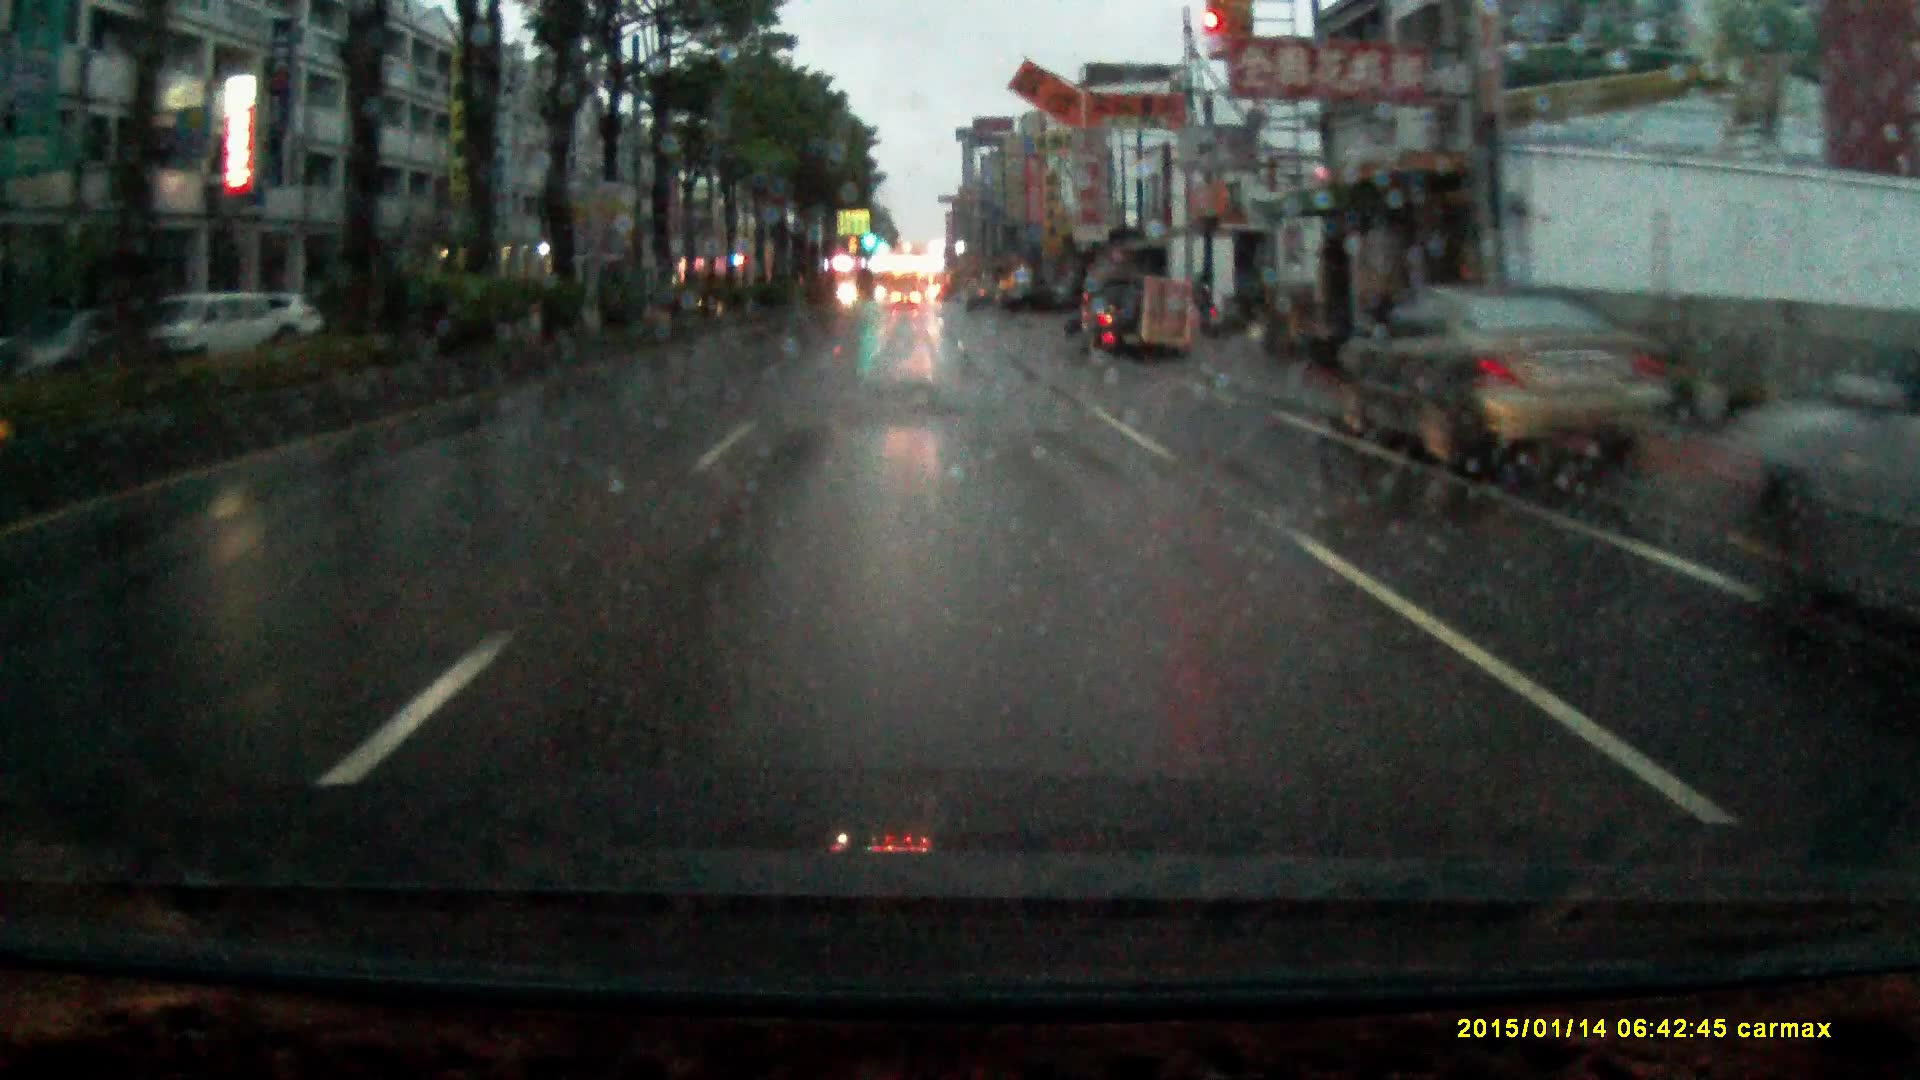vehicle: (1335, 277, 1680, 469), (128, 301, 281, 371), (1073, 266, 1179, 363), (22, 305, 150, 372), (891, 287, 920, 310)
